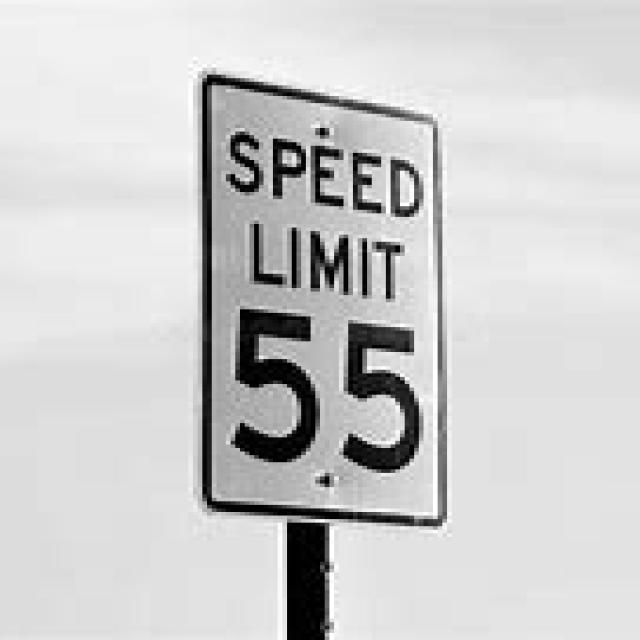speedLimit55: (198, 57, 452, 555)
